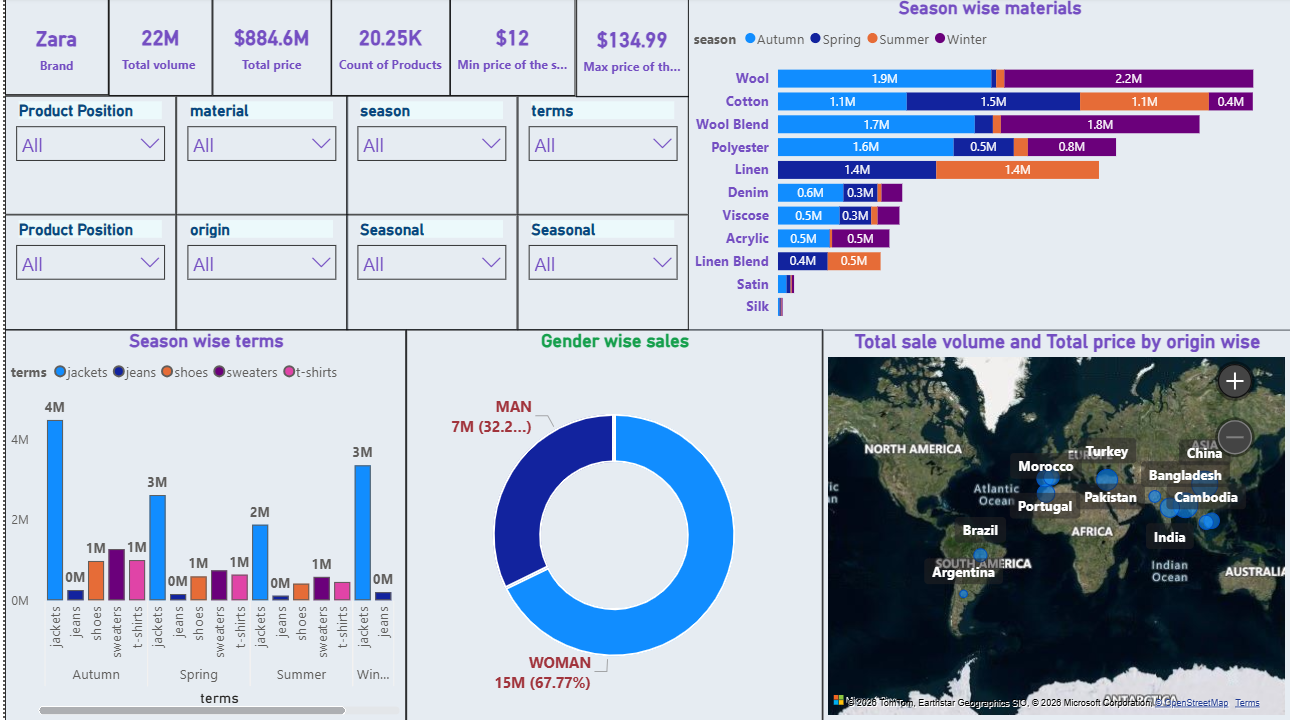

What the dashboard file says about the page in this screenshot:
{"tool":"powerbi","page":{"name":"Dash Board","canvas":[1280,720],"ordinal":0},"visuals":[{"type":"donutChart","title":"Gender wise sales","fields":{"Y":["Sum(Business_sales_EDA.Sales Volume)"],"Category":["Business_sales_EDA.section"]},"box":[399.3,330.9,414.2,389.4],"z":0},{"type":"map","title":"Total sale volume and  Total price by origin wise","fields":{"Category":["Business_sales_EDA.origin"],"Size":["Sum(Business_sales_EDA.Sales Volume)"]},"box":[813.5,330.9,466.5,389.4],"z":1000},{"type":"columnChart","title":"Season wise terms","fields":{"Category":["Business_sales_EDA.season","Business_sales_EDA.terms"],"Y":["Sum(Business_sales_EDA.Sales Volume)"],"Series":["Business_sales_EDA.terms"]},"box":[0,330.9,399.3,389.4],"z":2000},{"type":"card","fields":{"Values":["Sum(Business_sales_EDA.Sales Volume)"]},"box":[103.3,0,103.3,98.3],"z":3000},{"type":"card","fields":{"Values":["Sum(Business_sales_EDA.total price)"]},"box":[206.7,0,118.3,98.3],"z":4000},{"type":"card","fields":{"Values":["CountNonNull(Business_sales_EDA.Product ID)"]},"box":[325,0,118.3,98.3],"z":5000},{"type":"card","fields":{"Values":["Min(Business_sales_EDA.price)"]},"box":[443.3,0,125,98.3],"z":6000},{"type":"card","fields":{"Values":["Max(Business_sales_EDA.price)"]},"box":[568.3,1.7,111.7,98.3],"z":7000},{"type":"card","fields":{"Values":["Min(Business_sales_EDA.brand)"]},"box":[0,1.7,103.3,96.7],"z":8000},{"type":"slicer","fields":{"Values":["Business_sales_EDA.Product Position"]},"box":[0,98.3,170,118.3],"z":9000},{"type":"slicer","fields":{"Values":["Business_sales_EDA.material"]},"box":[170,98.3,170,118.3],"z":10000},{"type":"slicer","fields":{"Values":["Business_sales_EDA.origin"]},"box":[170,216.7,170,115],"z":11000},{"type":"slicer","fields":{"Values":["Business_sales_EDA.Product Position"]},"box":[0,216.7,170,115],"z":12000},{"type":"slicer","fields":{"Values":["Business_sales_EDA.season"]},"box":[340,98.3,170,118.3],"z":13000},{"type":"slicer","fields":{"Values":["Business_sales_EDA.Seasonal"]},"box":[340,216.7,170,115],"z":14000},{"type":"slicer","fields":{"Values":["Business_sales_EDA.terms"]},"box":[510,98.3,170,118.3],"z":15000},{"type":"slicer","fields":{"Values":["Business_sales_EDA.Seasonal"]},"box":[510,216.7,170,115],"z":16000},{"type":"barChart","title":"Season wise materials","fields":{"Category":["Business_sales_EDA.material","Business_sales_EDA.season"],"Y":["Sum(Business_sales_EDA.Sales Volume)"],"Series":["Business_sales_EDA.season"]},"box":[680,0,600,331.7],"z":17000}]}

Visuals, with their boxes in screenshot pixels (x1, y1, x2, y2), scaled from the page's 1280x720 canvas onto the 1290x720 screenshot:
"Gender wise sales" donutChart: <region>402, 331, 820, 719</region>
"Total sale volume and  Total price by origin wise" map: <region>820, 331, 1289, 719</region>
"Season wise terms" columnChart: <region>0, 331, 402, 719</region>
card - Sum(Business_sales_EDA.Sales Volume): <region>104, 0, 208, 98</region>
card - Sum(Business_sales_EDA.total price): <region>208, 0, 328, 98</region>
card - CountNonNull(Business_sales_EDA.Product ID): <region>328, 0, 447, 98</region>
card - Min(Business_sales_EDA.price): <region>447, 0, 573, 98</region>
card - Max(Business_sales_EDA.price): <region>573, 2, 685, 100</region>
card - Min(Business_sales_EDA.brand): <region>0, 2, 104, 98</region>
slicer - Business_sales_EDA.Product Position: <region>0, 98, 171, 217</region>
slicer - Business_sales_EDA.material: <region>171, 98, 343, 217</region>
slicer - Business_sales_EDA.origin: <region>171, 217, 343, 332</region>
slicer - Business_sales_EDA.Product Position: <region>0, 217, 171, 332</region>
slicer - Business_sales_EDA.season: <region>343, 98, 514, 217</region>
slicer - Business_sales_EDA.Seasonal: <region>343, 217, 514, 332</region>
slicer - Business_sales_EDA.terms: <region>514, 98, 685, 217</region>
slicer - Business_sales_EDA.Seasonal: <region>514, 217, 685, 332</region>
"Season wise materials" barChart: <region>685, 0, 1289, 332</region>
